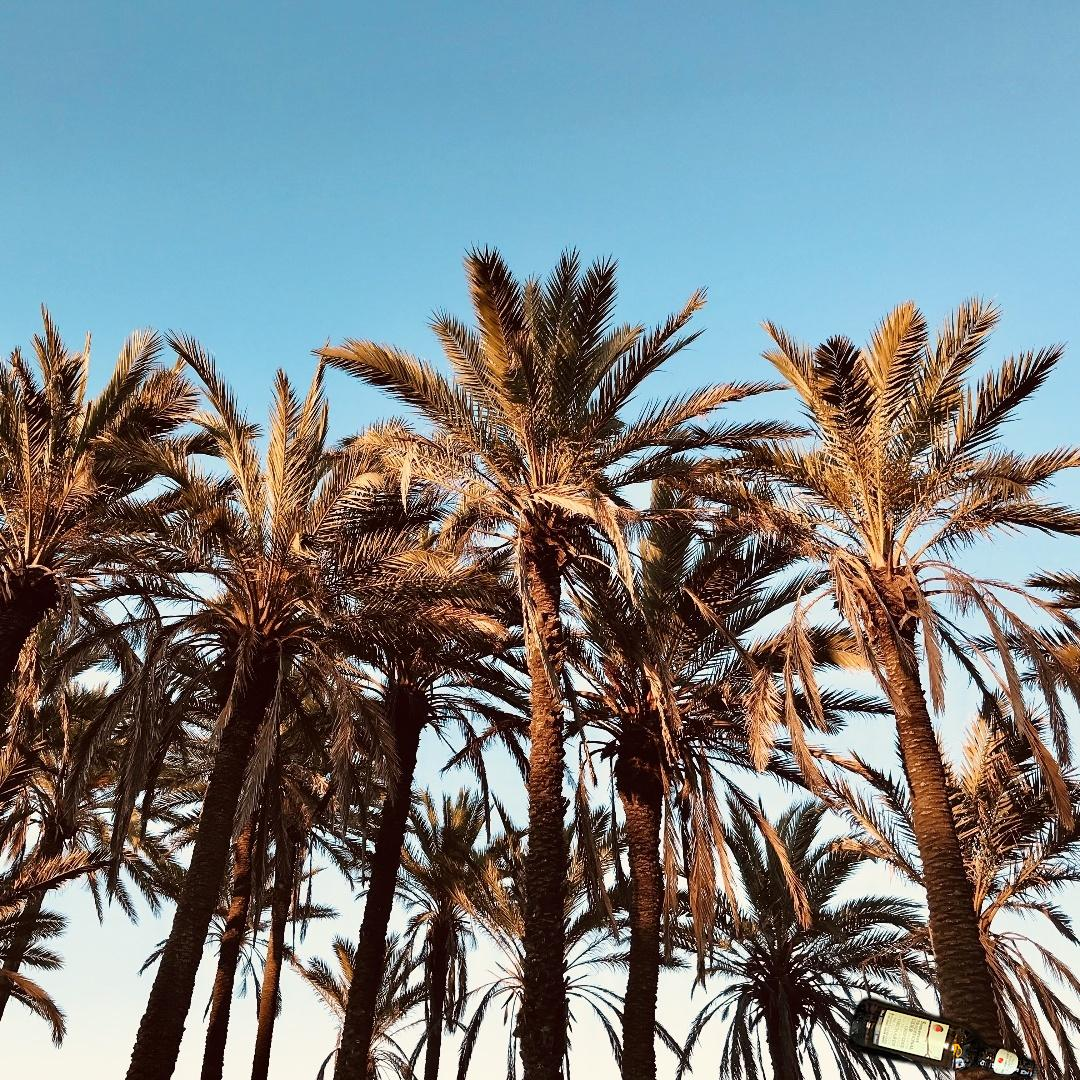glass: (817, 985, 1080, 1080)
